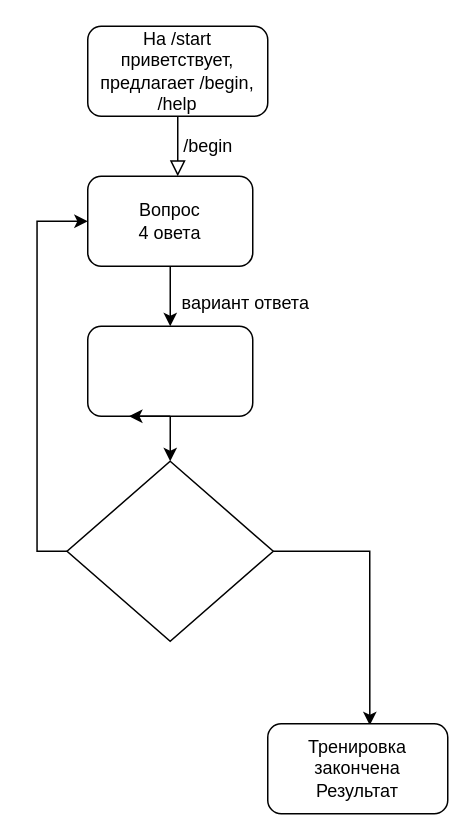
Some shapes in this 474 by 840 pixel diagram are drawn without their labels. Each missing label, with the centre of its shape:
"Еще билет|Закончить" belongs at pixel 169 550.
"Проверка выбранного ответа, меняем статистику" belongs at pixel 169 370.
